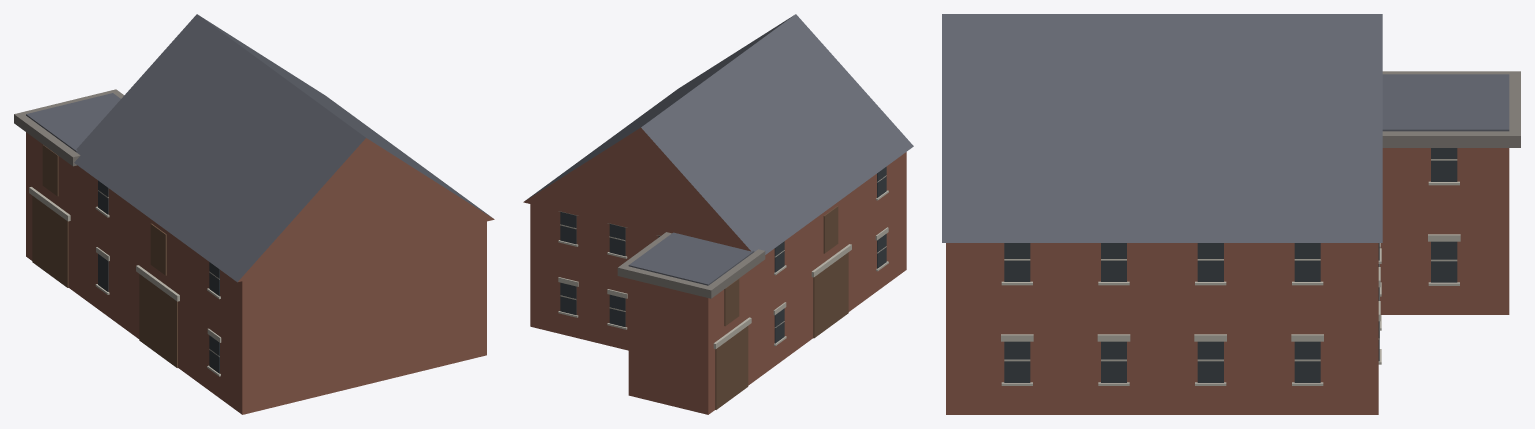
File: house_1726_prairie_coach_house__draft_1904.glb
The picture shows the model from 3 angles, left to right: view 1: azimuth 30°, elevation 25°; view 2: azimuth 150°, elevation 25°; view 3: azimuth 270°, elevation 25°; orthographic projection. The views are drawn at different scales.
Parts seen in each view (by area): view 1: house_1726_prairie_coach_house__draft_1904; view 2: house_1726_prairie_coach_house__draft_1904; view 3: house_1726_prairie_coach_house__draft_1904.
Boxes of the visible parts, box(x1,y1,x2,y2) form: house_1726_prairie_coach_house__draft_1904: box(14, 14, 494, 414); house_1726_prairie_coach_house__draft_1904: box(523, 14, 913, 414); house_1726_prairie_coach_house__draft_1904: box(942, 14, 1520, 414).
Bounding box in the file's own units: 11.9 × 10.92 × 17.72.
